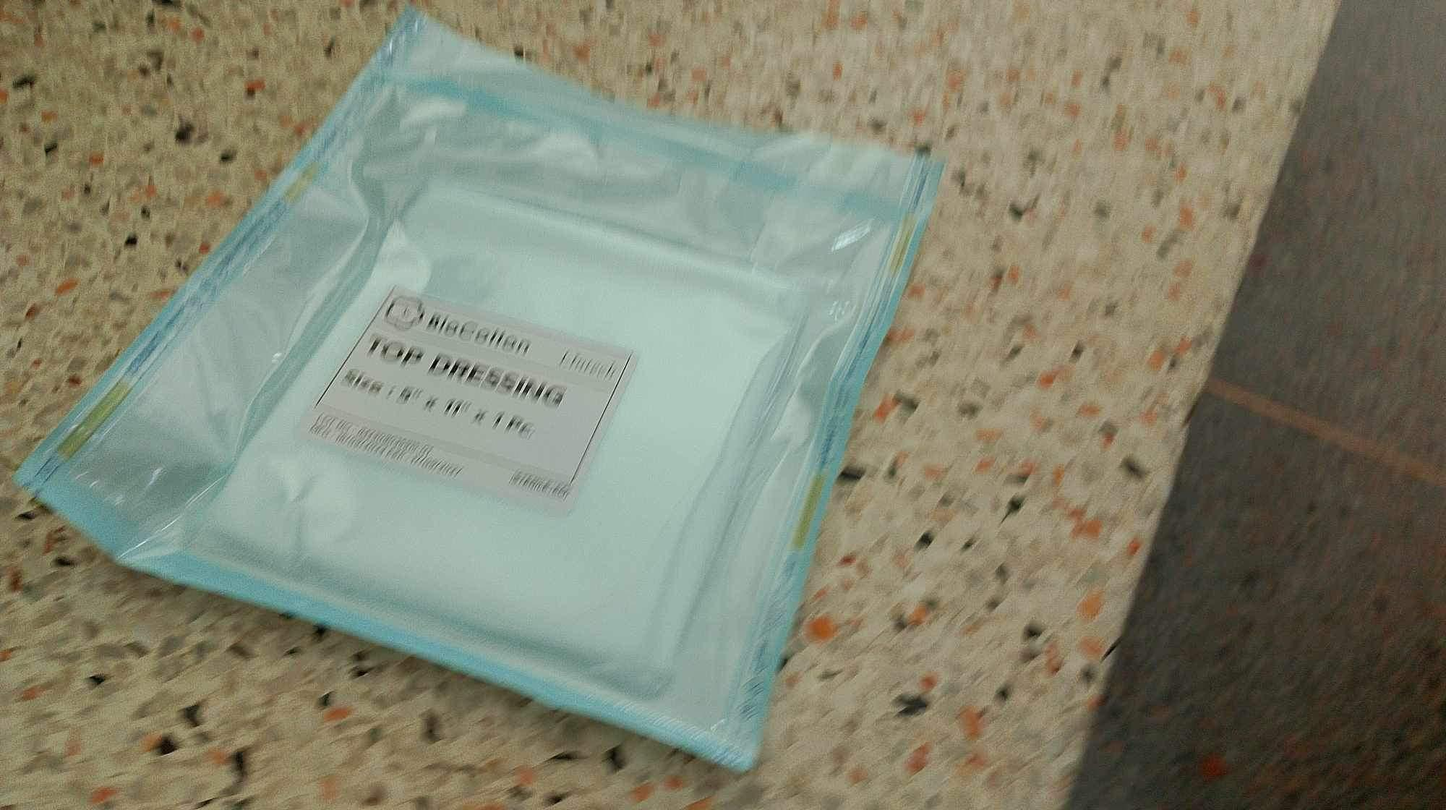General: (11, 6, 950, 776), (299, 283, 638, 513)
